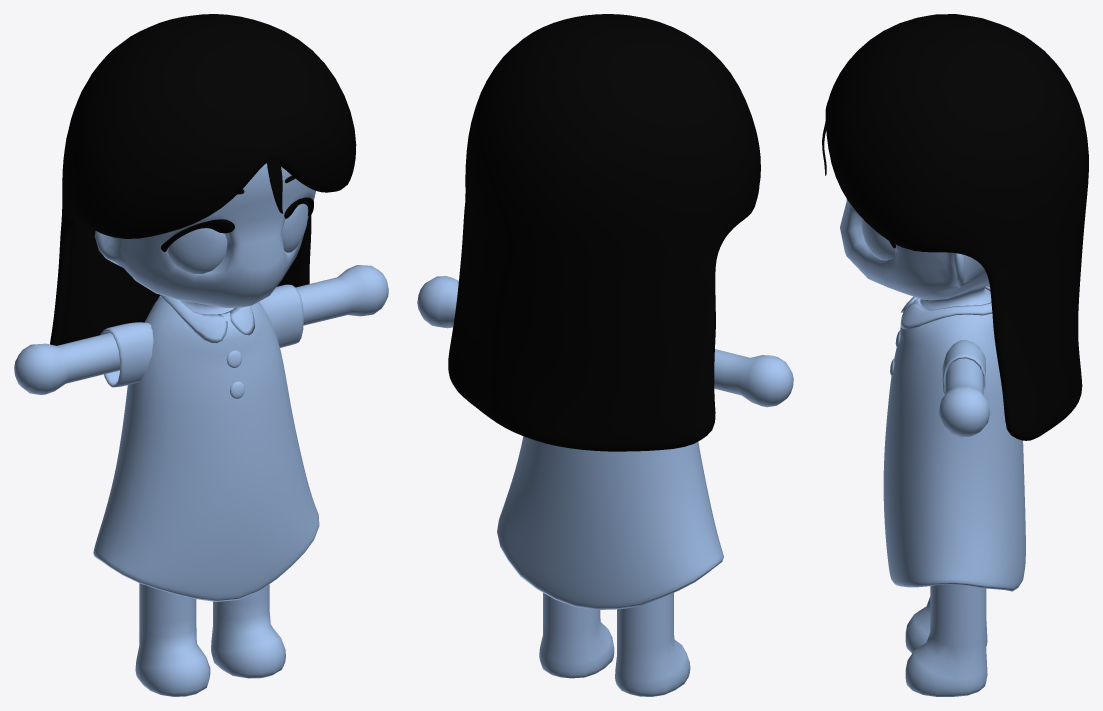
Rendered from ERIKA.fbx.
3 views of the same model, side by side, from view 1: azimuth 30°, elevation 25°; view 2: azimuth 150°, elevation 25°; view 3: azimuth 270°, elevation 25° (orthographic).
Parts seen in each view (by area): view 1: LP_HAIR, LP_DRESS.001, LP_base.001, LP_EYE.001, LP_EyeLeash.001; view 2: LP_HAIR, LP_DRESS.001, LP_base.001; view 3: LP_HAIR, LP_DRESS.001, LP_base.001, LP_EYE.001.
Part boxes in pixels (box(x1,y1,x2,y2)): LP_HAIR: box(50, 14, 356, 345); LP_DRESS.001: box(93, 284, 319, 601); LP_base.001: box(14, 163, 388, 696); LP_EYE.001: box(168, 203, 307, 273); LP_EyeLeash.001: box(161, 175, 313, 251); LP_HAIR: box(448, 14, 760, 451); LP_DRESS.001: box(497, 436, 723, 609); LP_base.001: box(417, 276, 793, 696); LP_HAIR: box(822, 14, 1088, 440); LP_DRESS.001: box(883, 284, 1025, 591); LP_base.001: box(840, 199, 991, 696); LP_EYE.001: box(860, 217, 895, 260).
Bounding box in the file's own units: 340 × 567 × 216.
